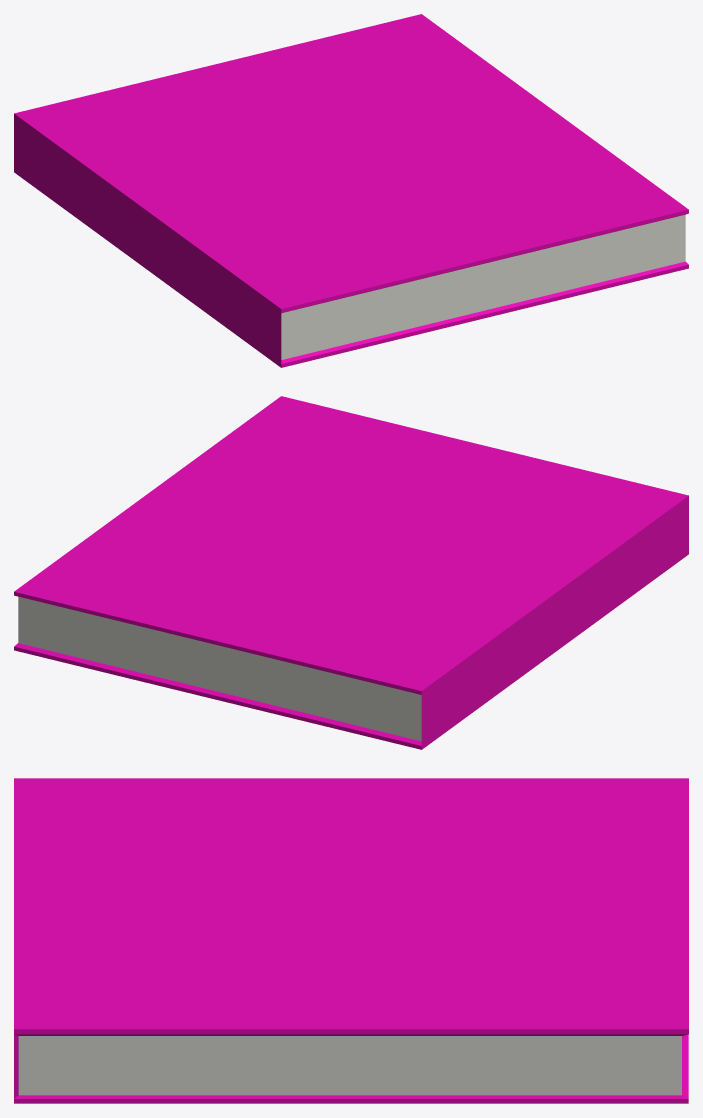
Rendered from purple book.fbx.
The picture shows the model from 3 angles, top to bottom: view 1: azimuth 30°, elevation 25°; view 2: azimuth 150°, elevation 25°; view 3: azimuth 270°, elevation 25°; orthographic projection. The views are drawn at different scales.
Parts seen in each view (by area): view 1: book; view 2: book; view 3: book.
Boxes of the visible parts, x1,y1,x2,y2 form: book: [14, 14, 688, 367]; book: [14, 396, 688, 749]; book: [14, 778, 688, 1103].
Bounding box in the file's own units: 179 × 24.7 × 203.
